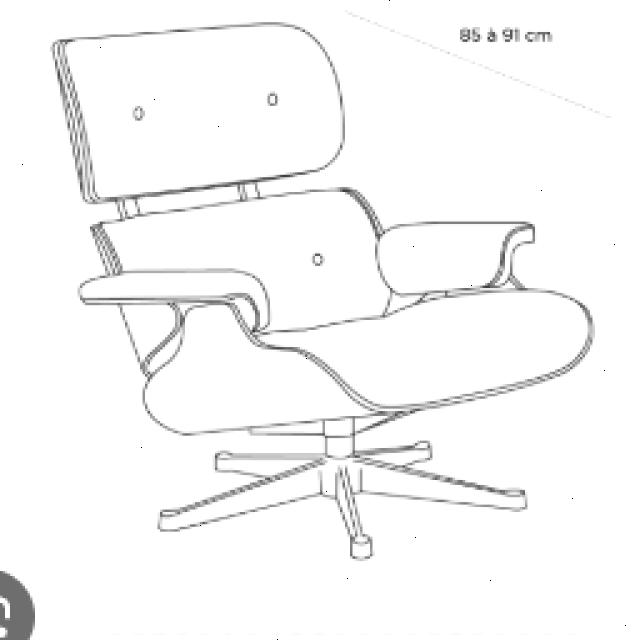Backrest: (88, 185, 392, 378)
Eames_base: (144, 427, 548, 572)
Eames_lounge: (374, 222, 539, 299), (79, 268, 271, 331)
Headrest: (46, 18, 351, 206)
Seat: (143, 288, 594, 435)
